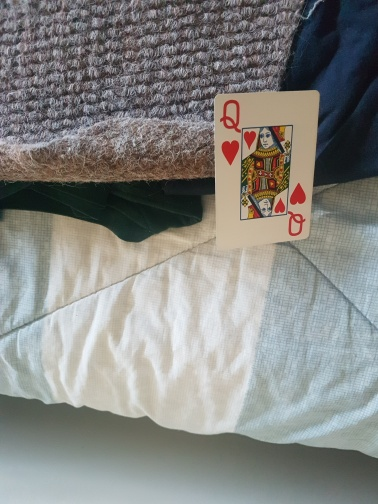queen: (216, 91, 320, 248)
